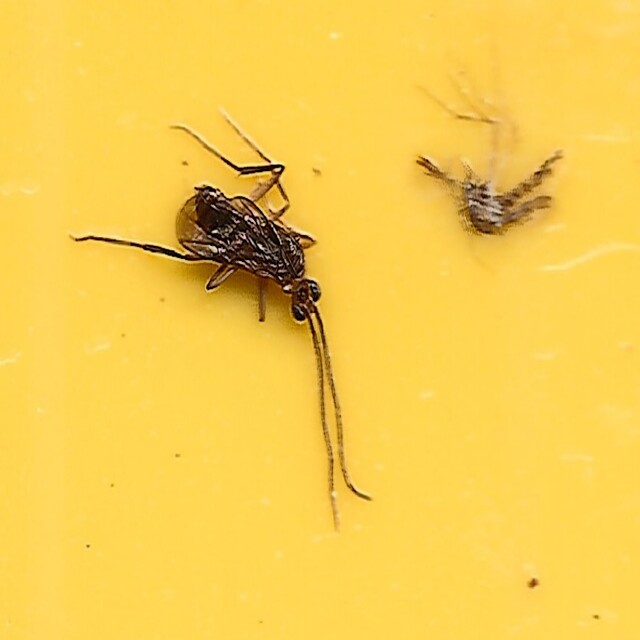Hymenoptera: (73, 108, 375, 532)
Nematocera: (416, 141, 567, 236)
